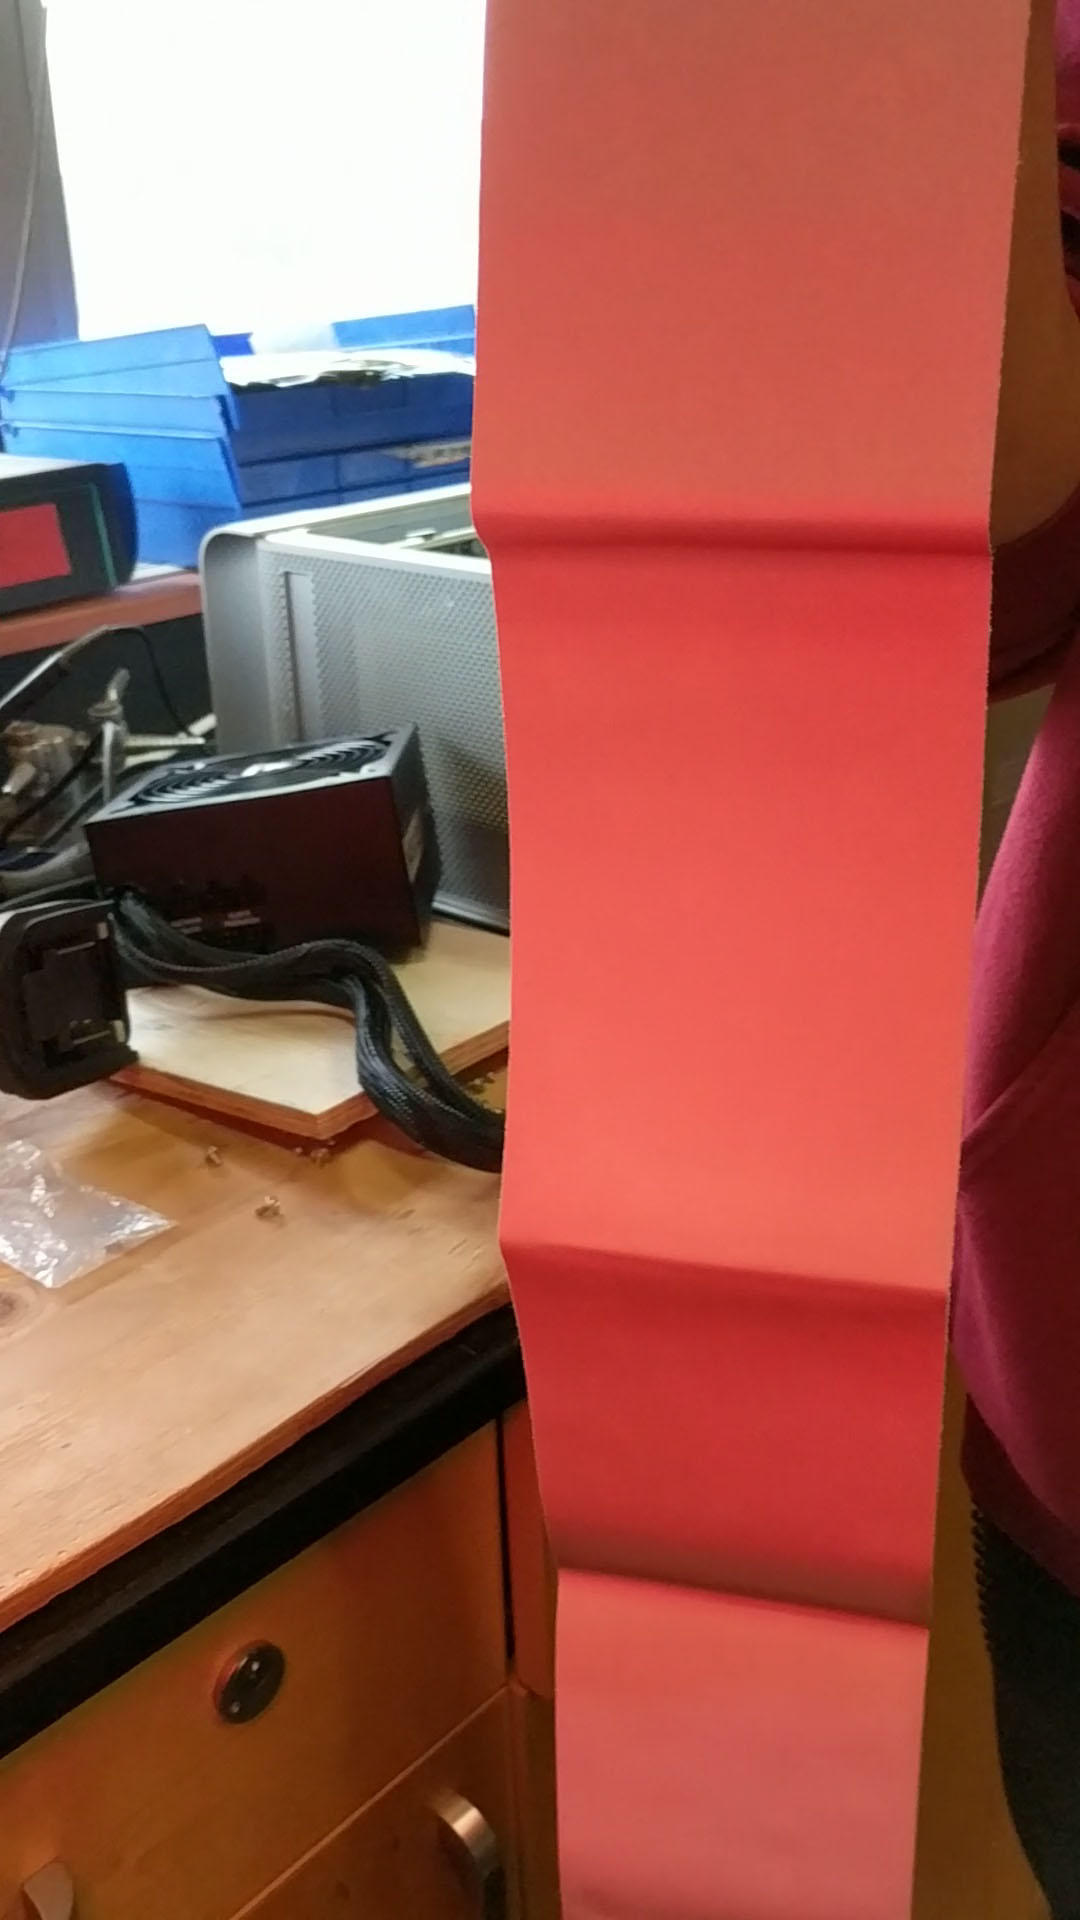gear: (472, 0, 1000, 1920)
